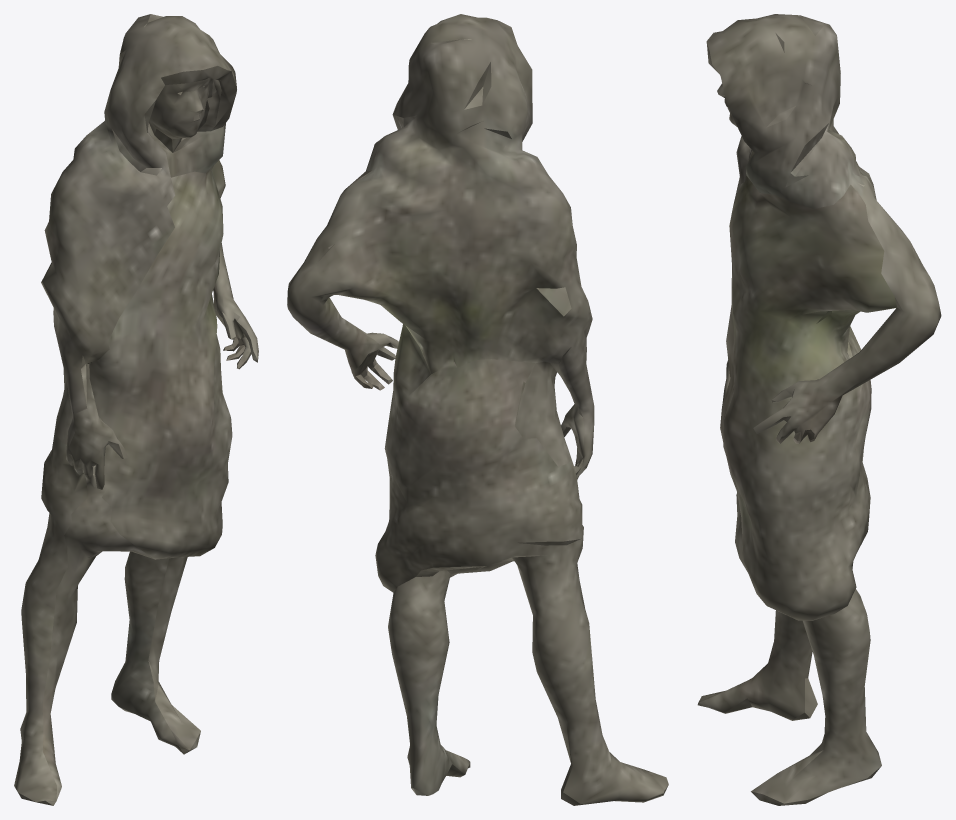
The model's file is df_gargoyle.glb.
3 views of the same model, side by side, from view 1: azimuth 30°, elevation 25°; view 2: azimuth 150°, elevation 25°; view 3: azimuth 270°, elevation 25° (orthographic). The views are drawn at different scales.
Visible parts, largest first — view 1: KB3D_DKF_Statue_B_Main; view 2: KB3D_DKF_Statue_B_Main; view 3: KB3D_DKF_Statue_B_Main.
Boxes of the visible parts, x1,y1,x2,y2 form: KB3D_DKF_Statue_B_Main: (14,14,258,805); KB3D_DKF_Statue_B_Main: (287,14,668,805); KB3D_DKF_Statue_B_Main: (697,14,941,805).
Bounding box in the file's own units: 0.6101 × 1.53 × 0.4379.
1 material, 1 textured.
